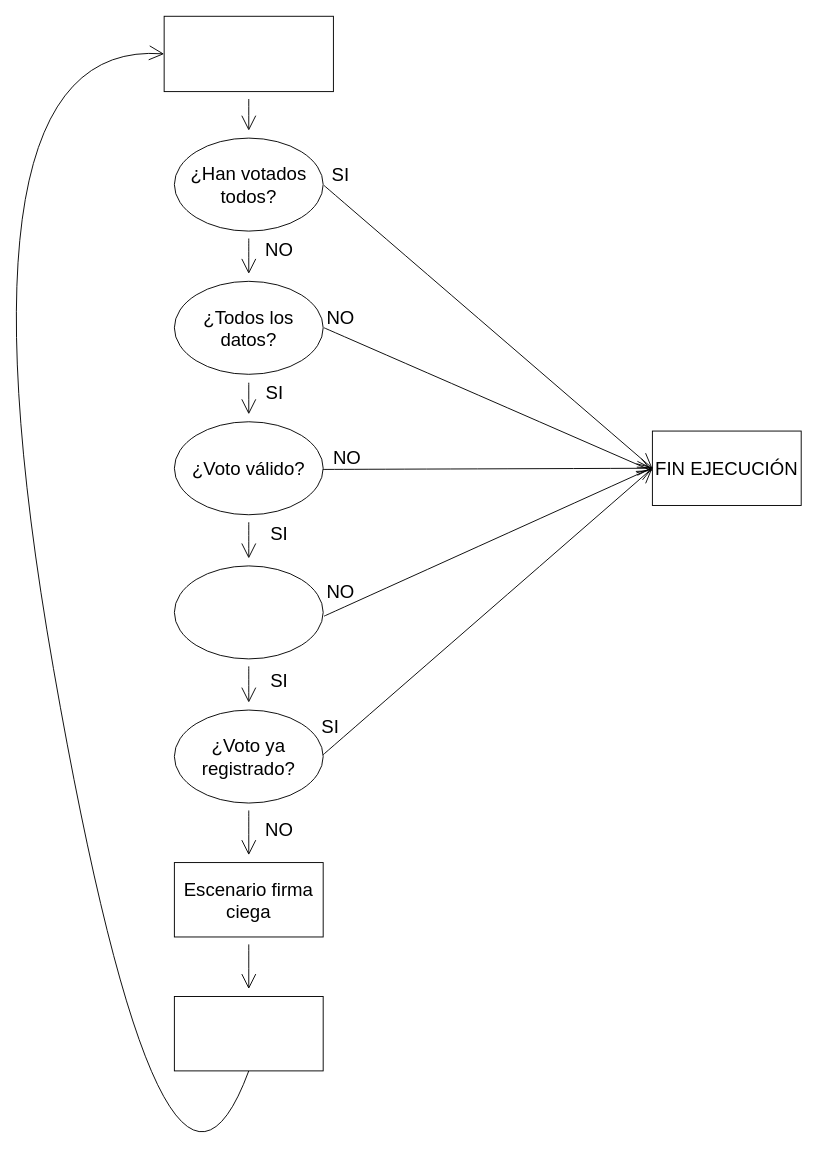
This 817x1149 diagram has some shape labels left out. Here are the shapes that lost their labels. From the top down, the centre of each, then its label:
pixel 248 53: INTRODUCCIÓN DATOS
pixel 248 612: ¿Nombre y certificados correctos?
pixel 248 1033: Voto registrado
